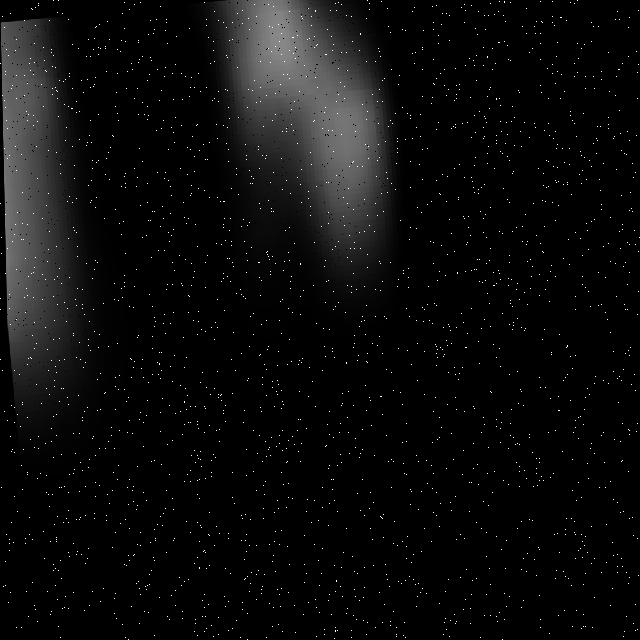person: (182, 1, 430, 363), (1, 13, 123, 413)
